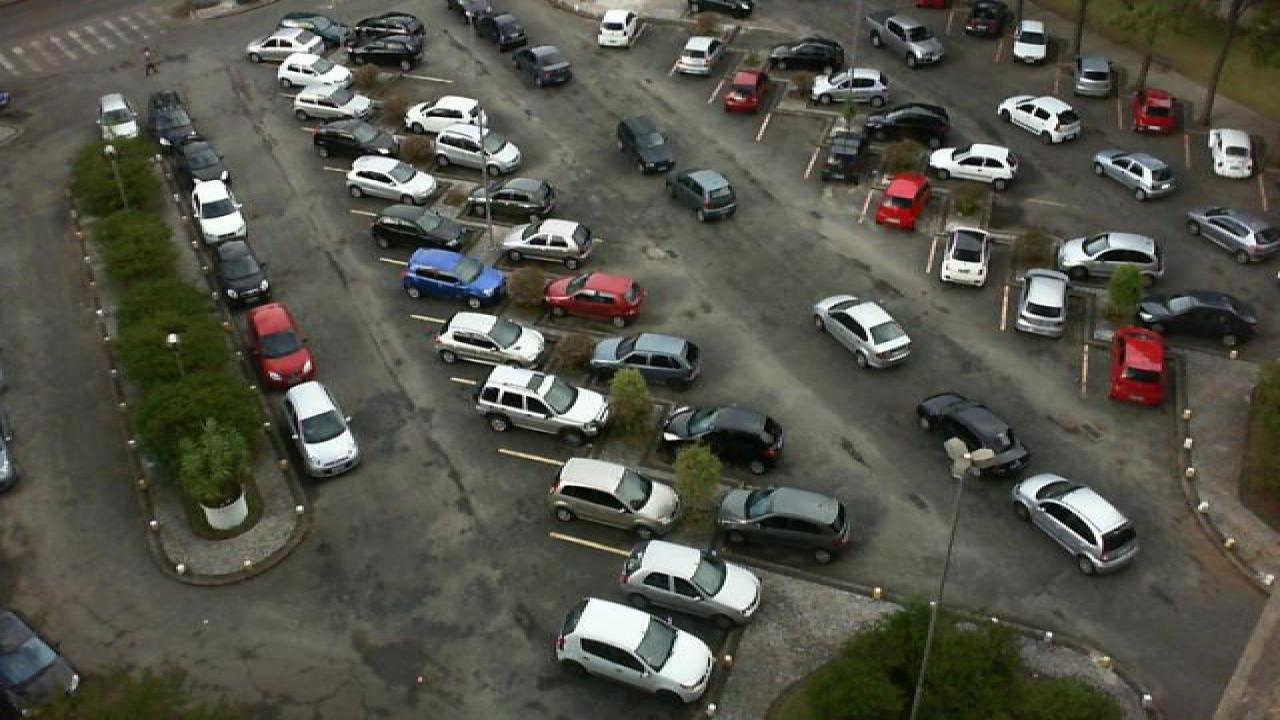Car: (552, 594, 720, 709), (1006, 471, 1142, 576), (616, 536, 768, 626), (470, 359, 614, 442), (710, 482, 852, 564), (548, 456, 682, 536), (652, 398, 788, 475), (912, 390, 1036, 474), (808, 290, 918, 372), (282, 379, 364, 478), (1130, 289, 1258, 348), (430, 308, 548, 371), (588, 330, 706, 391), (242, 302, 318, 392), (400, 246, 508, 308), (536, 269, 646, 326), (1052, 229, 1168, 282), (1182, 204, 1280, 264), (340, 152, 442, 207), (1106, 323, 1172, 407), (364, 201, 470, 253), (498, 216, 596, 269), (860, 11, 948, 69), (456, 174, 560, 223), (430, 128, 528, 178), (994, 92, 1084, 145), (1008, 266, 1074, 338), (210, 238, 276, 308), (1092, 148, 1176, 202), (662, 168, 740, 225), (866, 170, 932, 235), (308, 118, 400, 164), (402, 94, 492, 138), (926, 142, 1018, 185), (802, 65, 896, 107), (936, 224, 996, 289), (192, 174, 248, 243), (616, 116, 680, 175), (860, 100, 956, 137), (166, 125, 226, 184), (814, 128, 872, 186), (286, 87, 376, 124), (240, 30, 332, 66), (342, 34, 428, 72), (270, 54, 358, 90), (764, 35, 850, 71), (512, 43, 576, 90), (346, 10, 426, 47), (716, 68, 768, 118), (668, 34, 726, 78), (1206, 126, 1254, 179), (146, 89, 196, 139), (1128, 87, 1180, 135), (96, 92, 144, 141), (278, 10, 346, 41), (480, 10, 528, 52), (1008, 18, 1050, 64), (1074, 56, 1118, 99), (594, 8, 640, 49), (964, 0, 1012, 39), (458, 0, 498, 26)
